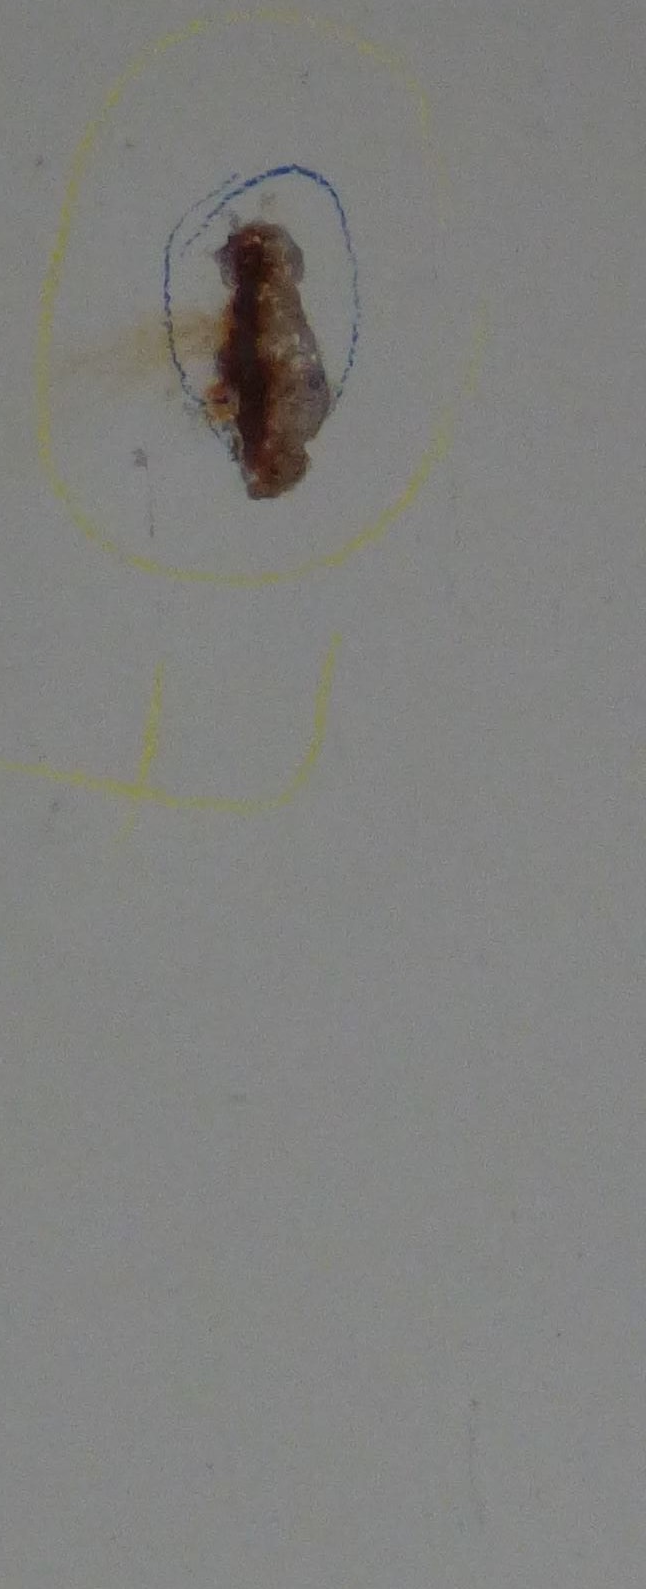Exposed reinforcement: (227, 242, 271, 446)
Spalling: (206, 217, 331, 502)
